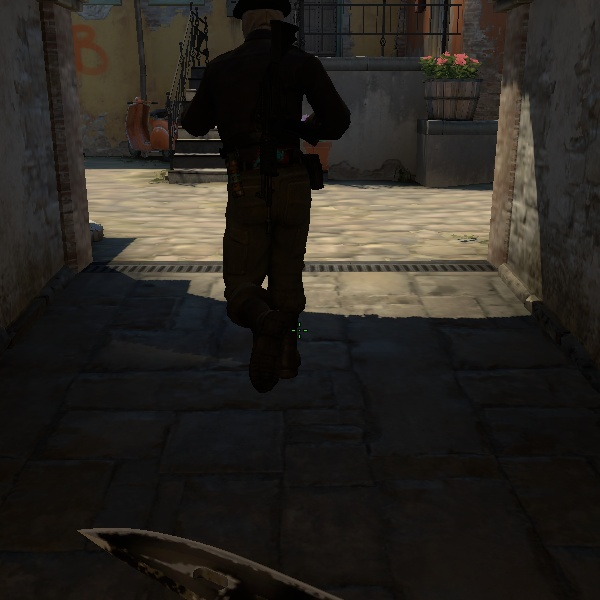ct_body: (99, 0, 384, 377)
ct_head: (196, 2, 317, 61)
